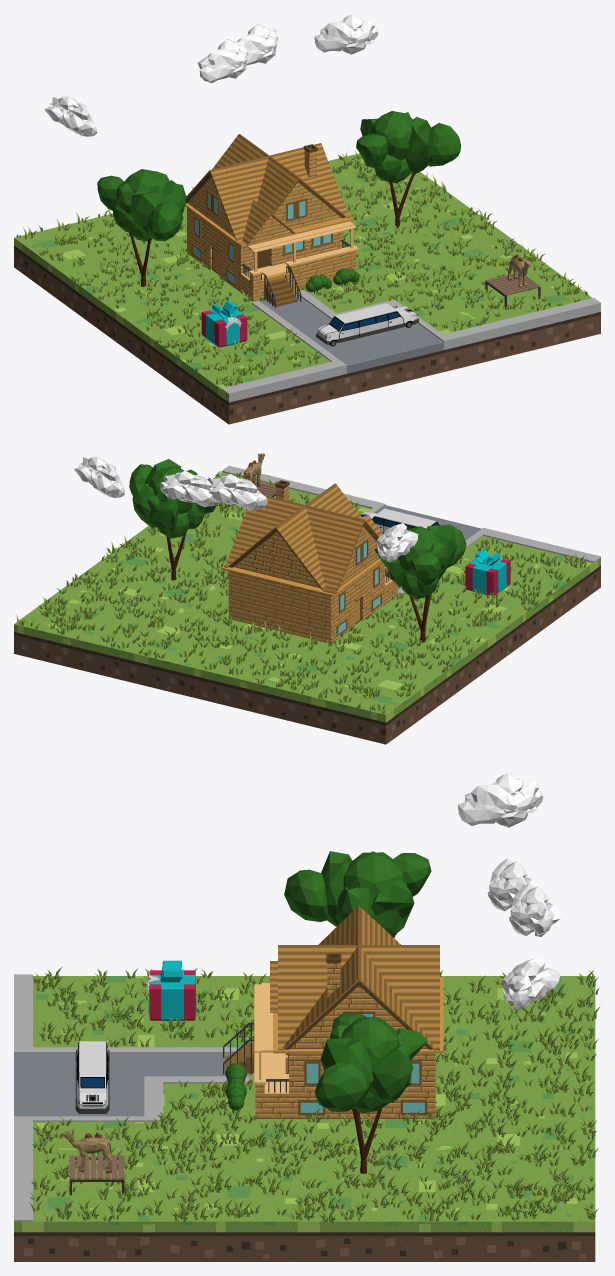
3 renders of one model, top to bottom at view 1: azimuth 30°, elevation 25°; view 2: azimuth 150°, elevation 25°; view 3: azimuth 270°, elevation 25°, orthographic. The views are drawn at different scales.
Parts seen in each view (by area): view 1: Cube.006, Cube.508, Circle.012_Grass_0.192, Cube.007, tree, tree.001, VEHICLES_LIMOUSINE, OBJRANDOM_GIANT_PRESENT, Cube.009; view 2: Cube.006, Cube.508, Circle.012_Grass_0.192, Cube.007, tree.001, tree, OBJRANDOM_GIANT_PRESENT, VEHICLES_LIMOUSINE, ANIMAL_CAMELLO; view 3: Cube.006, Circle.012_Grass_0.192, Cube.508, tree, Cube.007, tree.001, OBJRANDOM_GIANT_PRESENT, VEHICLES_LIMOUSINE, Cube.009, ANIMAL_CAMELLO.
Part boxes in pixels (x1,y1,x2,y2): Cube.006: [14, 153, 600, 424]; Cube.508: [185, 134, 358, 307]; Circle.012_Grass_0.192: [16, 151, 587, 386]; Cube.007: [44, 14, 378, 136]; tree: [356, 111, 460, 228]; tree.001: [97, 169, 186, 286]; VEHICLES_LIMOUSINE: [316, 303, 418, 346]; OBJRANDOM_GIANT_PRESENT: [201, 300, 247, 347]; Cube.009: [485, 272, 540, 306]; Cube.006: [14, 465, 600, 744]; Cube.508: [221, 480, 397, 643]; Circle.012_Grass_0.192: [16, 471, 587, 713]; Cube.007: [74, 456, 418, 562]; tree.001: [374, 524, 466, 642]; tree: [129, 459, 216, 580]; OBJRANDOM_GIANT_PRESENT: [465, 549, 510, 595]; VEHICLES_LIMOUSINE: [360, 508, 439, 533]; ANIMAL_CAMELLO: [243, 453, 265, 486]; Cube.006: [14, 974, 595, 1261]; Circle.012_Grass_0.192: [29, 966, 600, 1222]; Cube.508: [223, 906, 443, 1118]; tree: [314, 1013, 428, 1173]; Cube.007: [457, 773, 560, 1010]; tree.001: [284, 851, 431, 937]; OBJRANDOM_GIANT_PRESENT: [147, 960, 196, 1020]; VEHICLES_LIMOUSINE: [75, 1041, 109, 1113]; Cube.009: [69, 1155, 124, 1195]; ANIMAL_CAMELLO: [61, 1129, 111, 1173].
Bounding box in the file's own units: 4071 × 2328 × 4040.
Materials: 36 (4 with a texture image).
